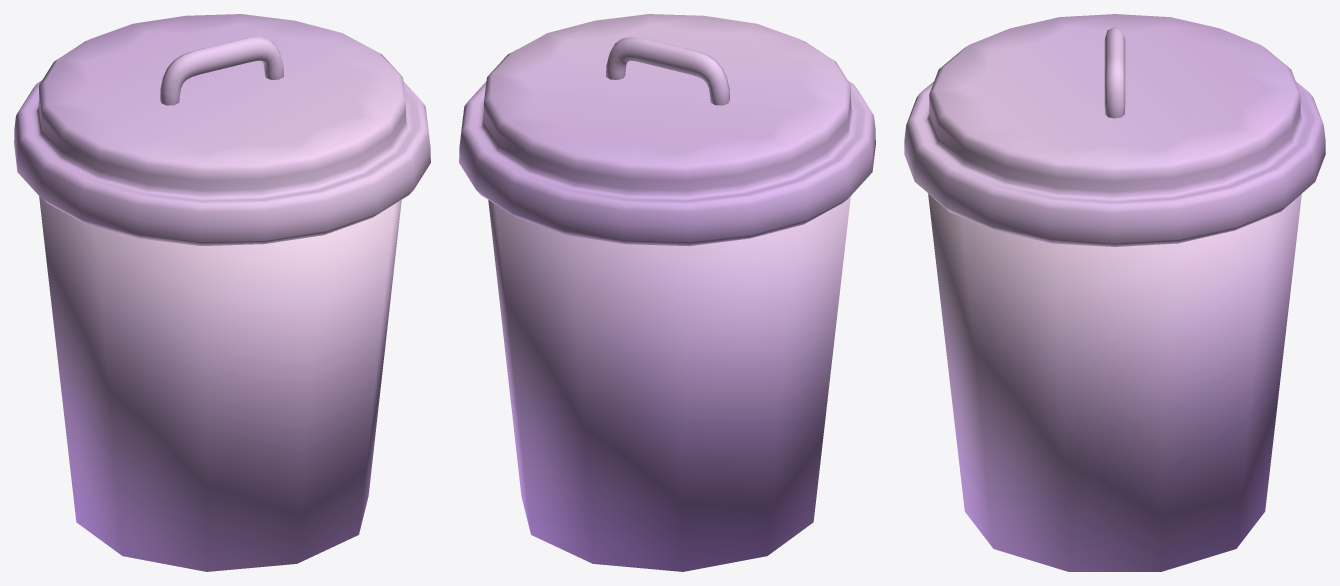
Rendered from Trash.fbx.
The picture shows the model from 3 angles, left to right: view 1: azimuth 30°, elevation 25°; view 2: azimuth 150°, elevation 25°; view 3: azimuth 270°, elevation 25°; orthographic projection.
Visible parts, largest first — view 1: Trash1, Trash; view 2: Trash1, Trash; view 3: Trash1, Trash.
Part boxes in pixels (bbox=[...]): Trash1: bbox=[39, 196, 401, 571]; Trash: bbox=[14, 14, 430, 246]; Trash1: bbox=[488, 196, 850, 571]; Trash: bbox=[459, 14, 875, 246]; Trash1: bbox=[928, 193, 1301, 571]; Trash: bbox=[904, 14, 1325, 246].
Bounding box in the file's own units: 379 × 464 × 379.
